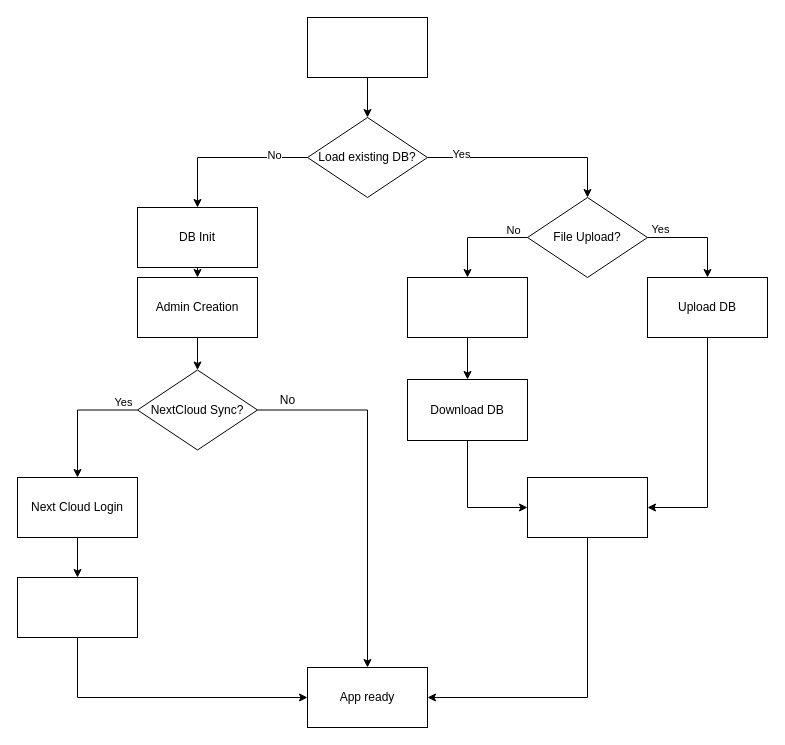
Image size: 785x745. Some labels were removed from this diagram. Each missing label, with the centre of its shape:
App Setup: the point at 367,47
Next Cloud Backup Setup: the point at 77,607
NextCloud Login: the point at 467,307
Restore DB: the point at 587,507
